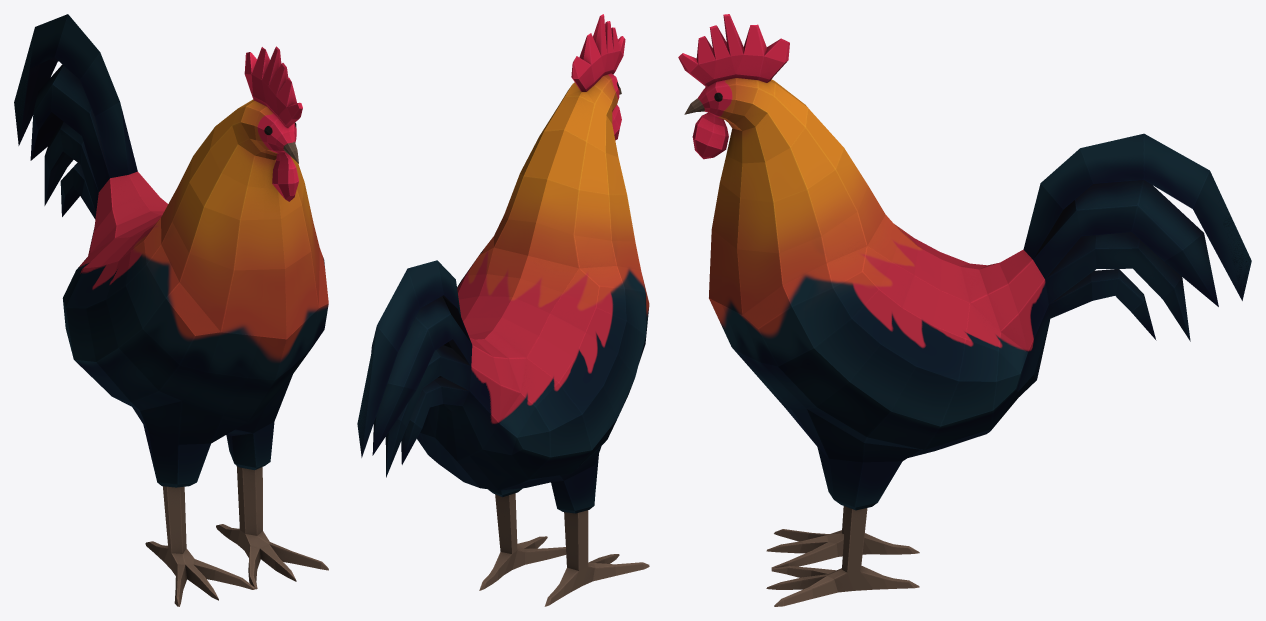
Rendered from Rooster.98ec4c2e.obj.
The picture shows the model from 3 angles, left to right: view 1: azimuth 30°, elevation 25°; view 2: azimuth 150°, elevation 25°; view 3: azimuth 270°, elevation 25°; orthographic projection. The views are drawn at different scales.
Parts seen in each view (by area): view 1: Rooster_mesh; view 2: Rooster_mesh; view 3: Rooster_mesh.
Boxes of the visible parts, bbox=[...] form: Rooster_mesh: bbox=[14, 14, 328, 606]; Rooster_mesh: bbox=[357, 14, 649, 606]; Rooster_mesh: bbox=[678, 14, 1251, 606].
Size of the model in its own units: 1.29 by 3.47 by 3.24.
